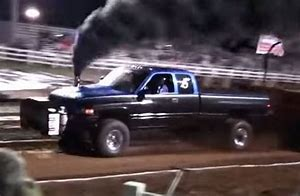smoke: (70, 1, 300, 72)
